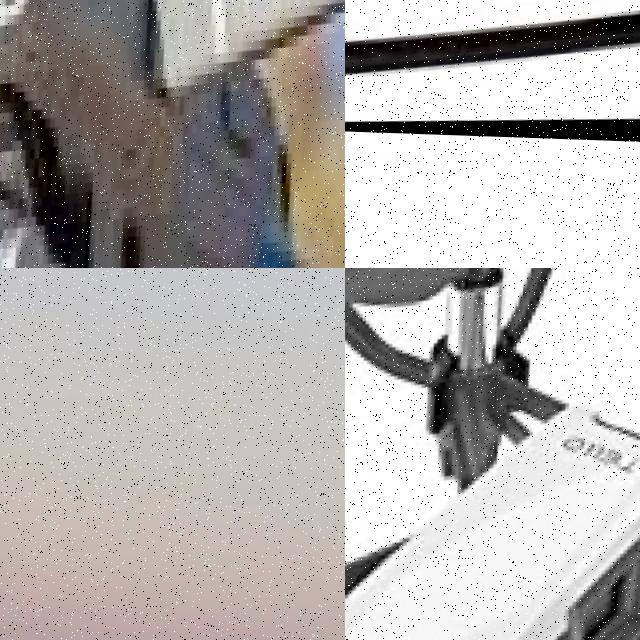drone: (345, 268, 640, 640), (0, 0, 345, 268), (345, 0, 640, 147)
